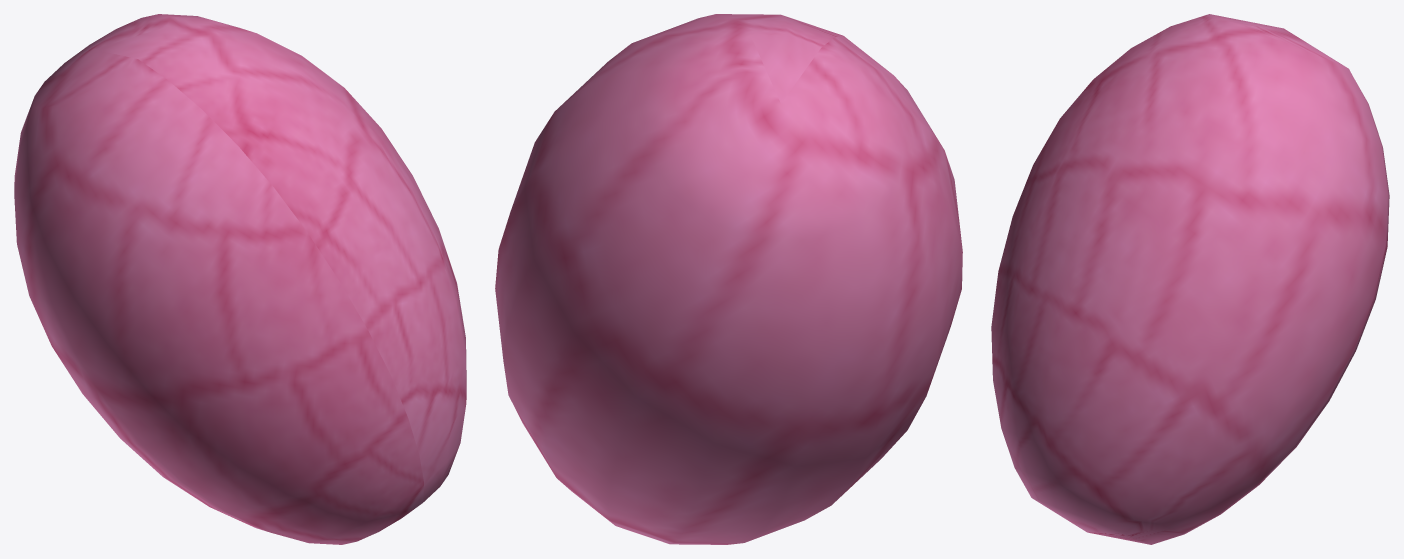
File: pied_droite.fbx
The picture shows the model from 3 angles, left to right: view 1: azimuth 30°, elevation 25°; view 2: azimuth 150°, elevation 25°; view 3: azimuth 270°, elevation 25°; orthographic projection. The views are drawn at different scales.
Visible parts, largest first — view 1: pSphere34; view 2: pSphere34; view 3: pSphere34.
Boxes of the visible parts, box(x1,y1,x2,y2) form: pSphere34: box(14, 14, 466, 544); pSphere34: box(495, 14, 962, 544); pSphere34: box(991, 14, 1389, 544).
Bounding box in the file's own units: 0.1739 × 0.2172 × 0.1697.
